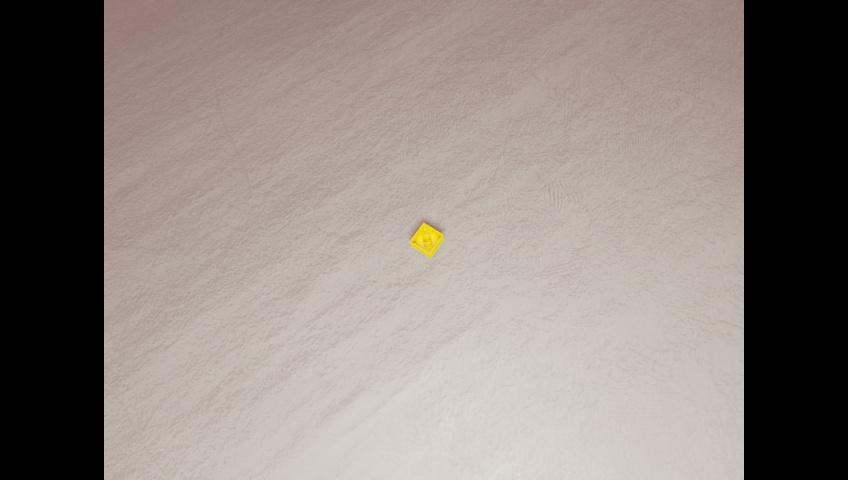2x2_yellow: (410, 222, 443, 258)
